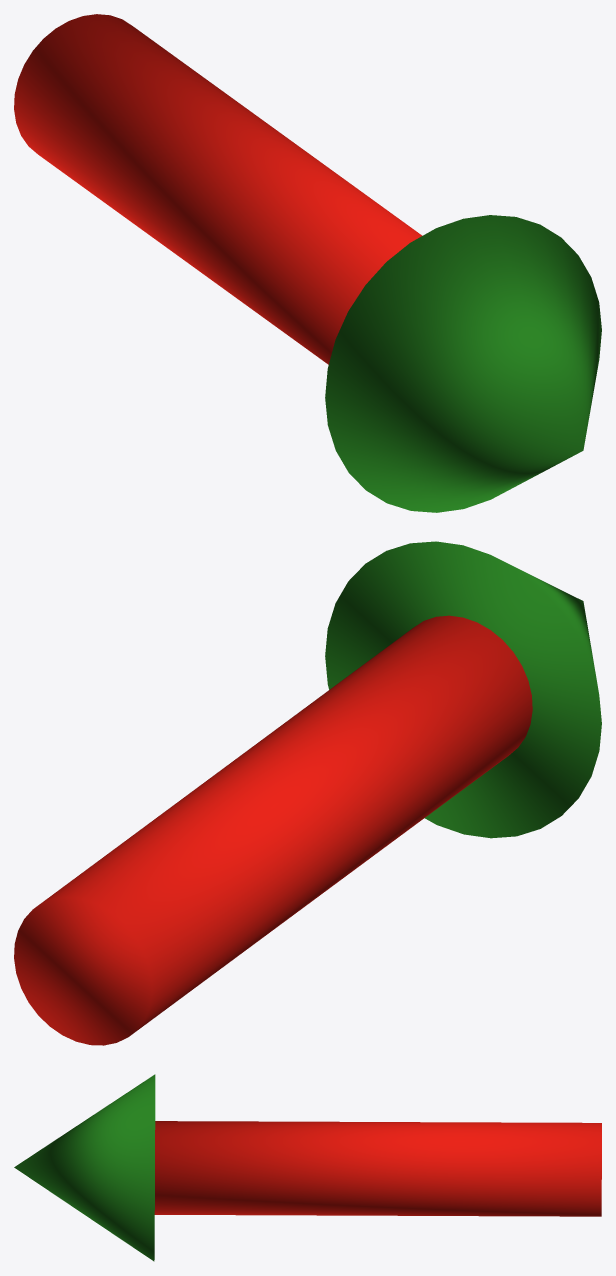
The model's file is arrowx-90.fbx.
The picture shows the model from 3 angles, top to bottom: view 1: azimuth 30°, elevation 25°; view 2: azimuth 150°, elevation 25°; view 3: azimuth 270°, elevation 25°; orthographic projection. The views are drawn at different scales.
Parts seen in each view (by area): view 1: Cone, Cylinder; view 2: Cylinder, Cone; view 3: Cylinder, Cone.
Part boxes in pixels (left/top/right/bottom): Cone: left=325, top=215, right=601, bottom=512; Cylinder: left=14, top=14, right=422, bottom=364; Cylinder: left=14, top=615, right=532, bottom=1045; Cone: left=325, top=541, right=601, bottom=838; Cylinder: left=154, top=1121, right=601, bottom=1216; Cone: left=14, top=1074, right=155, bottom=1261.
Size of the model in its own units: 400 by 400 by 1252.
